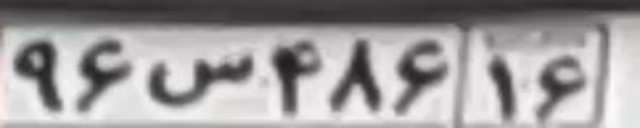1: (485, 53, 517, 119)
4: (269, 39, 319, 112)
6: (73, 37, 136, 110), (390, 36, 448, 114), (527, 53, 588, 121)
8: (329, 36, 382, 111)
9: (10, 41, 62, 111)
sin: (146, 52, 255, 106)
